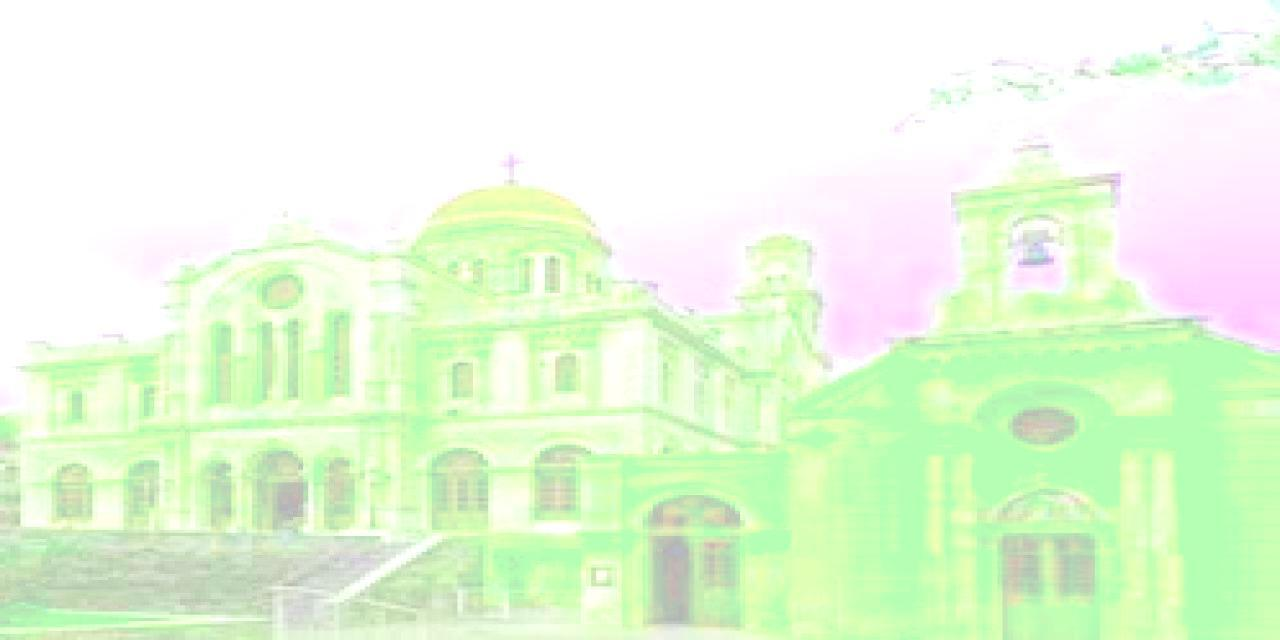Agios Minas: (1, 106, 1280, 640)
